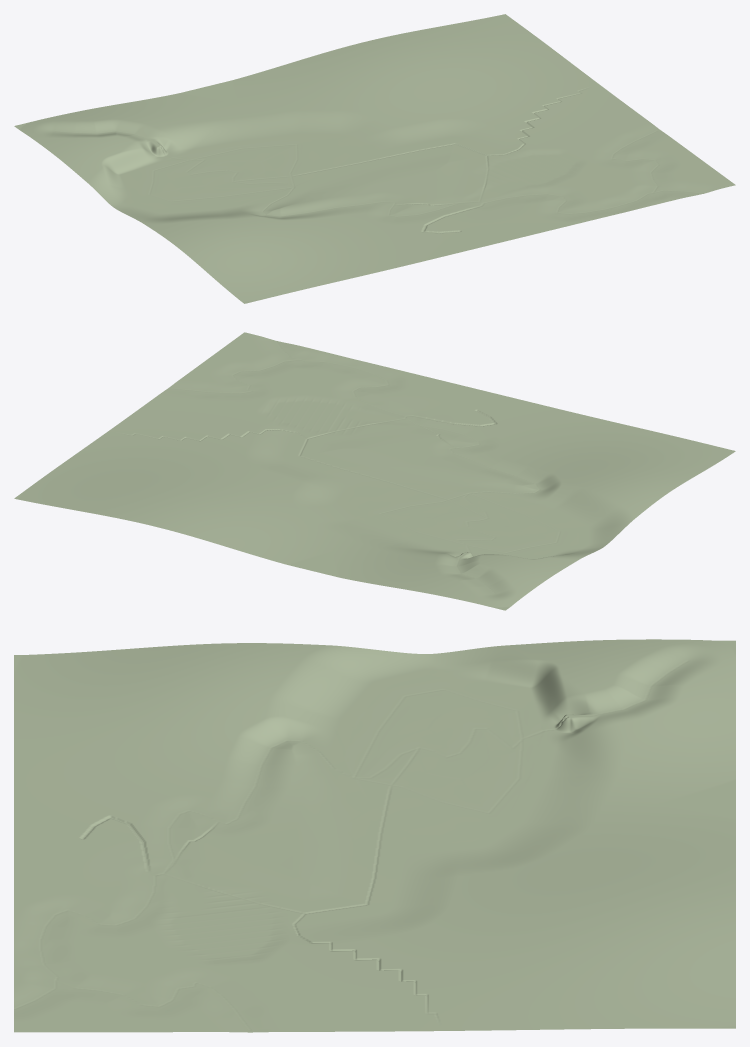
Rendered from terrain.glb.
3 renders of one model, top to bottom at view 1: azimuth 30°, elevation 25°; view 2: azimuth 150°, elevation 25°; view 3: azimuth 270°, elevation 25°, orthographic. The views are drawn at different scales.
Parts seen in each view (by area): view 1: Lowmark / offline mathematical terrain / provisional open wo; view 2: Lowmark / offline mathematical terrain / provisional open wo; view 3: Lowmark / offline mathematical terrain / provisional open wo.
Boxes of the visible parts, x1=… form: Lowmark / offline mathematical terrain / provisional open wo: x1=14, y1=14, x2=735, y2=303; Lowmark / offline mathematical terrain / provisional open wo: x1=14, y1=332, x2=735, y2=610; Lowmark / offline mathematical terrain / provisional open wo: x1=14, y1=639, x2=735, y2=1032.
Size of the model in its own units: 6144 by 173 by 4992.
